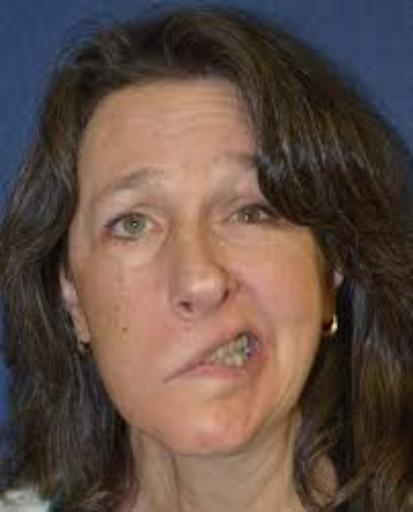left_eye: (219, 206, 284, 230)
left_lip_corner: (253, 329, 275, 355)
right_eye: (105, 214, 163, 242)
right_lip_corner: (158, 367, 188, 389)
